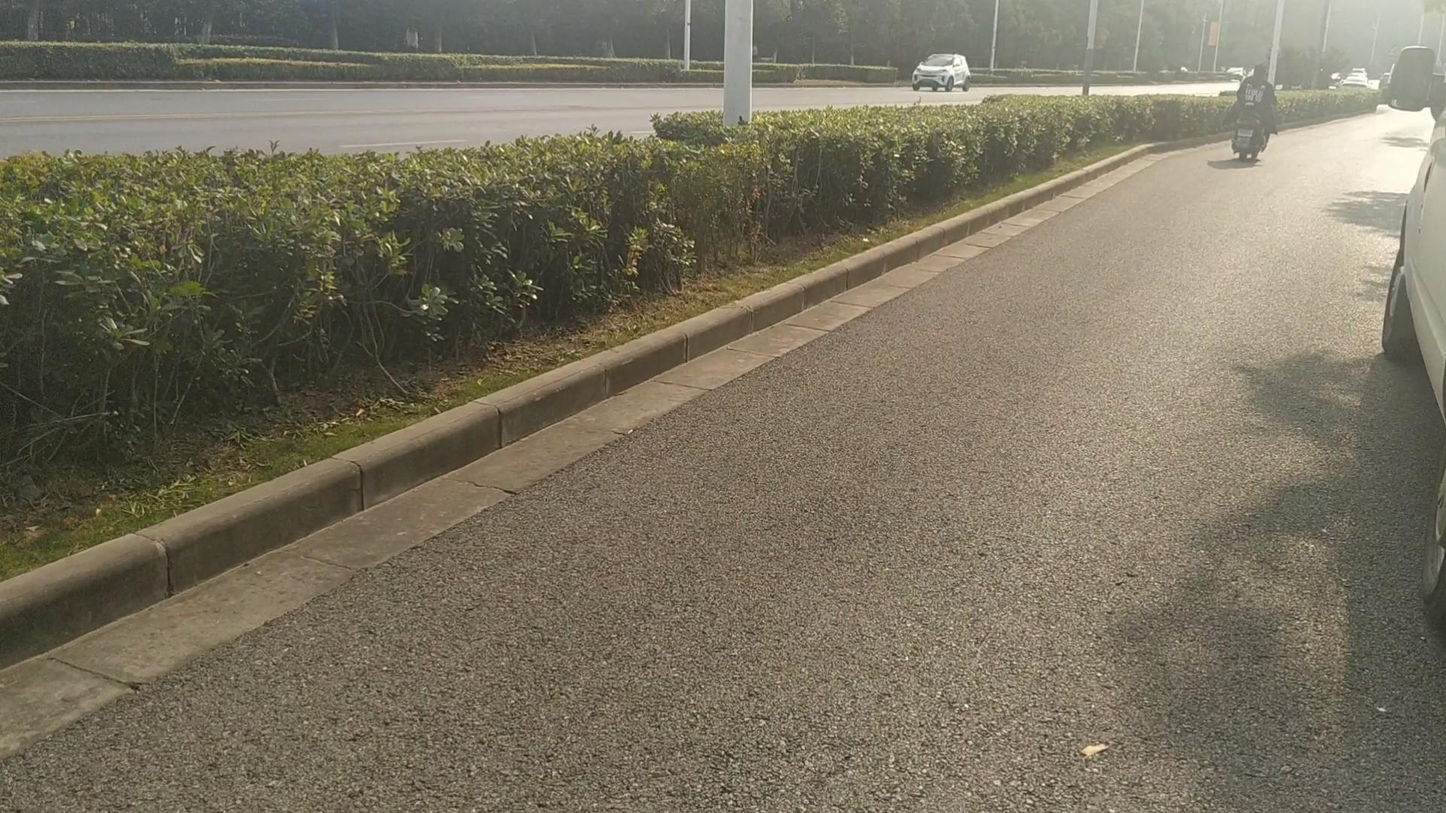car: (1380, 80, 1445, 421), (912, 53, 971, 92), (1329, 68, 1377, 90)
